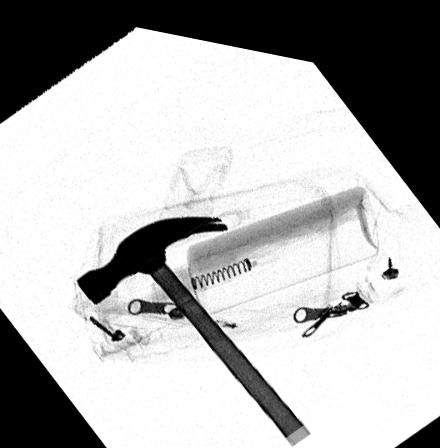Hammer: (74, 206, 309, 433)
